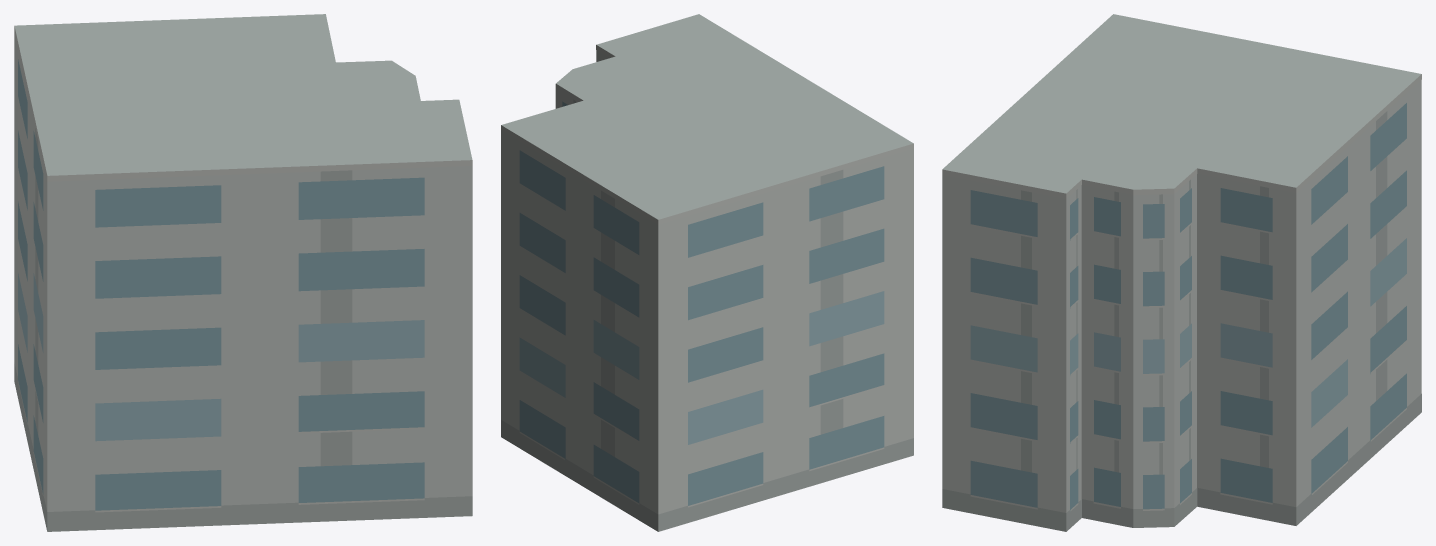
The model's file is survey-upis-32480373.glb.
The picture shows the model from 3 angles, left to right: view 1: azimuth 30°, elevation 25°; view 2: azimuth 150°, elevation 25°; view 3: azimuth 270°, elevation 25°; orthographic projection. The views are drawn at different scales.
Visible parts, largest first — view 1: survey-upis-32480373.tmp; view 2: survey-upis-32480373.tmp; view 3: survey-upis-32480373.tmp.
Boxes of the visible parts, x1=… form: survey-upis-32480373.tmp: x1=14, y1=14, x2=472, y2=531; survey-upis-32480373.tmp: x1=501, y1=14, x2=913, y2=531; survey-upis-32480373.tmp: x1=942, y1=14, x2=1421, y2=531.
Size of the model in its own units: 16.97 by 14.9 by 19.15.
